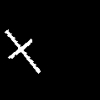single_crochet: (5, 30, 39, 72)
